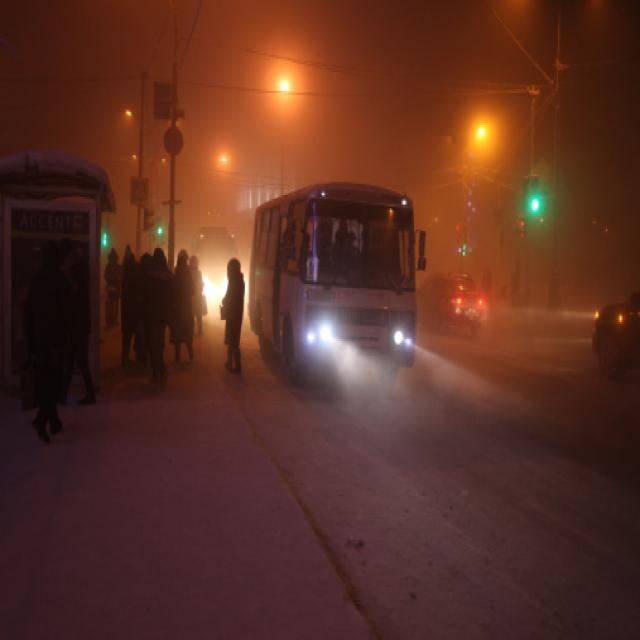Bus: (248, 157, 431, 406)
People: (27, 228, 79, 463), (71, 228, 117, 439), (138, 225, 172, 426), (215, 227, 253, 389), (156, 224, 194, 384), (184, 250, 220, 364), (124, 238, 148, 388), (103, 238, 129, 374)
car: (437, 255, 506, 361), (588, 274, 640, 372)
